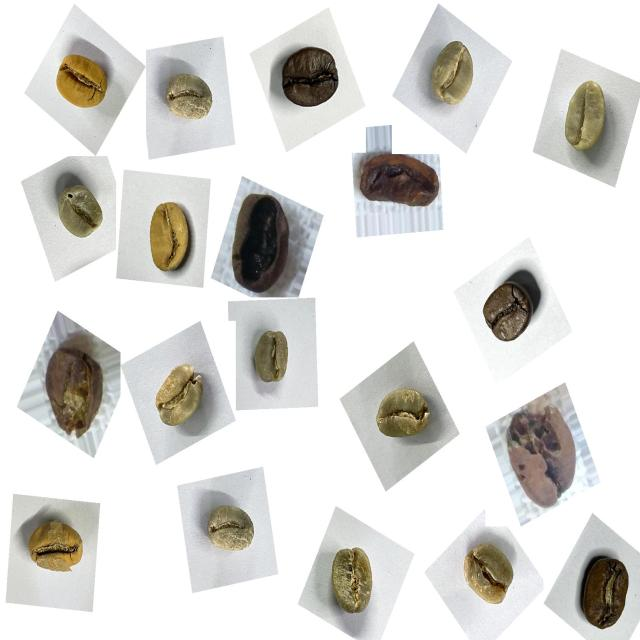bad: (498, 392, 589, 516), (224, 182, 306, 298), (34, 333, 113, 445), (351, 142, 445, 222)
dark: (271, 34, 349, 122), (471, 266, 546, 356)
green: (550, 68, 622, 166), (320, 535, 390, 627), (452, 532, 525, 620), (143, 352, 212, 440), (365, 376, 439, 456), (420, 32, 488, 119), (44, 173, 113, 253), (195, 494, 266, 569), (155, 64, 222, 136), (243, 319, 302, 396)
light: (134, 192, 202, 284), (20, 506, 94, 590), (46, 41, 118, 121)
medium: (570, 548, 638, 640)
